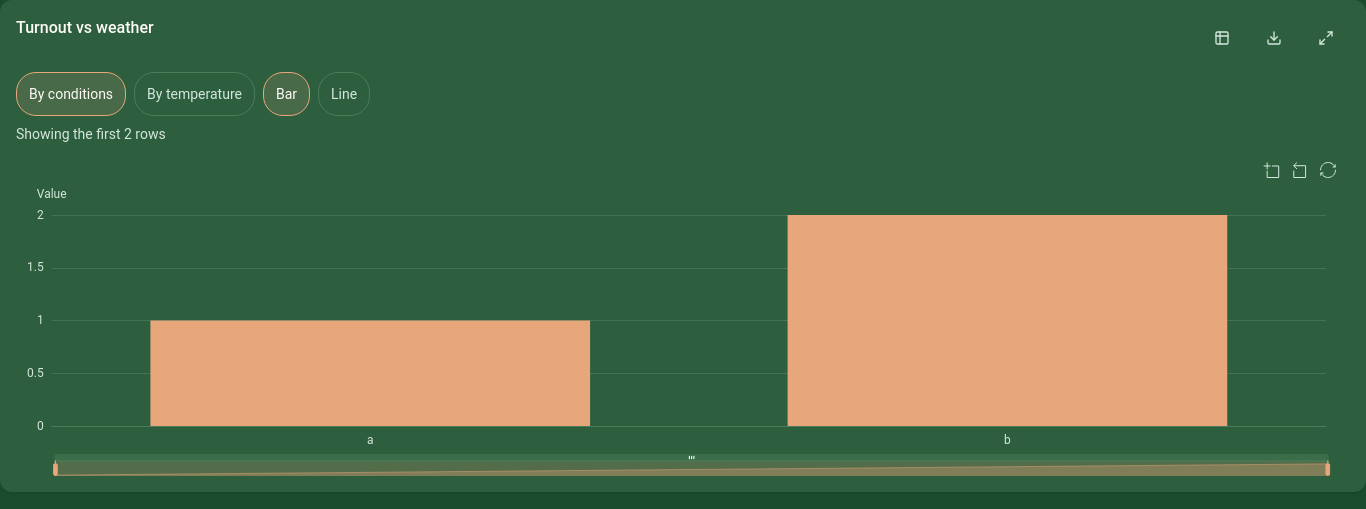
Test case: ChartCard › notes a truncated result, still charting, tabling and exporting every returned row
The width and height of the screenshot is (1366, 509).
Expected: the text "Showing the first 2 rows" is shown, [16, 126, 166, 142]
Click the button named "Table" at (1222, 38), box [1198, 16, 1246, 60]
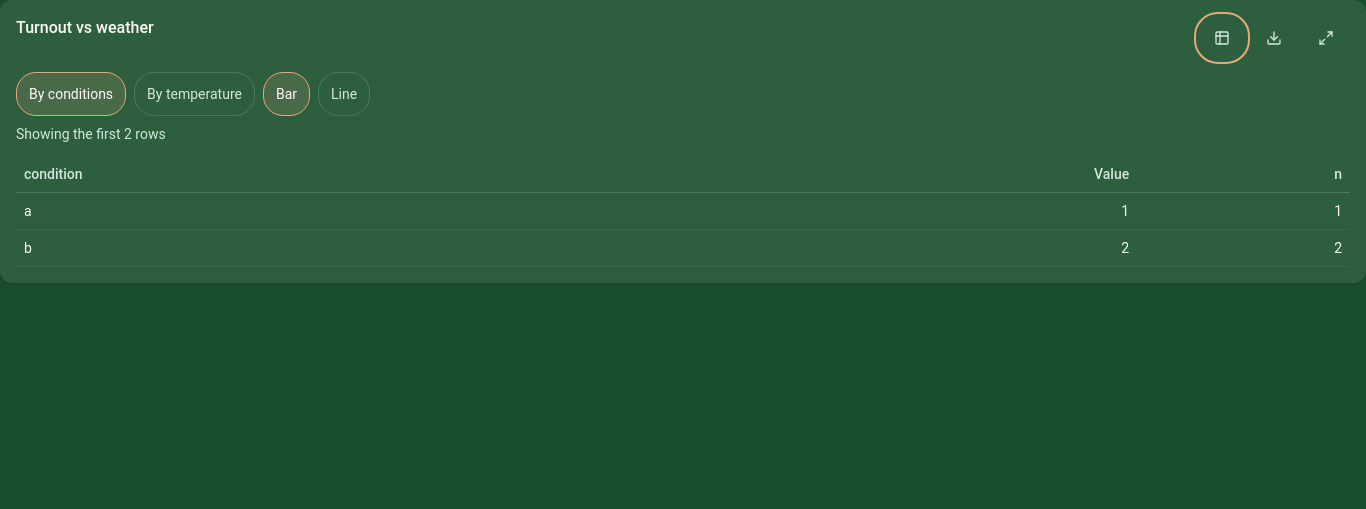
Expected: the text "Showing the first 2 rows" is shown, [16, 126, 166, 142]
Expected: the number of rows is 3, [16, 156, 1350, 192]; [16, 193, 1350, 230]; [16, 230, 1350, 266]
